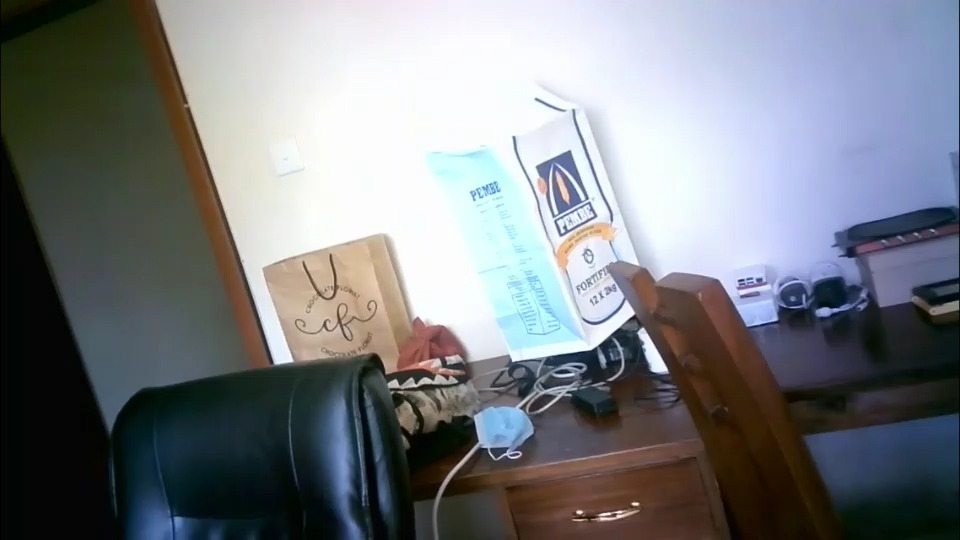wheat_flour_blue_label: (420, 78, 647, 355)
